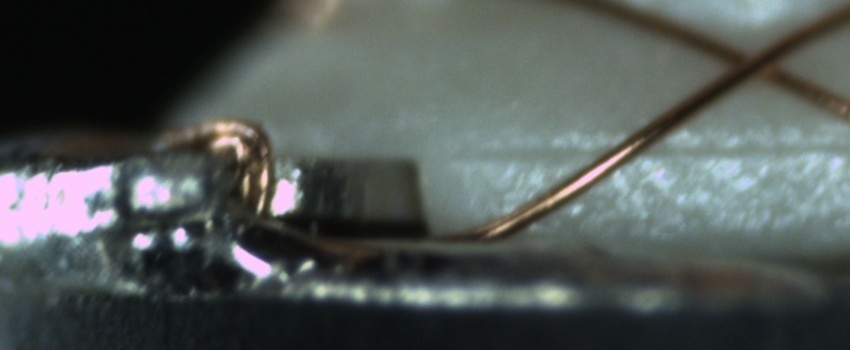CL: (710, 26, 808, 91)
DL: (447, 123, 849, 183)
TE: (151, 113, 278, 220)
